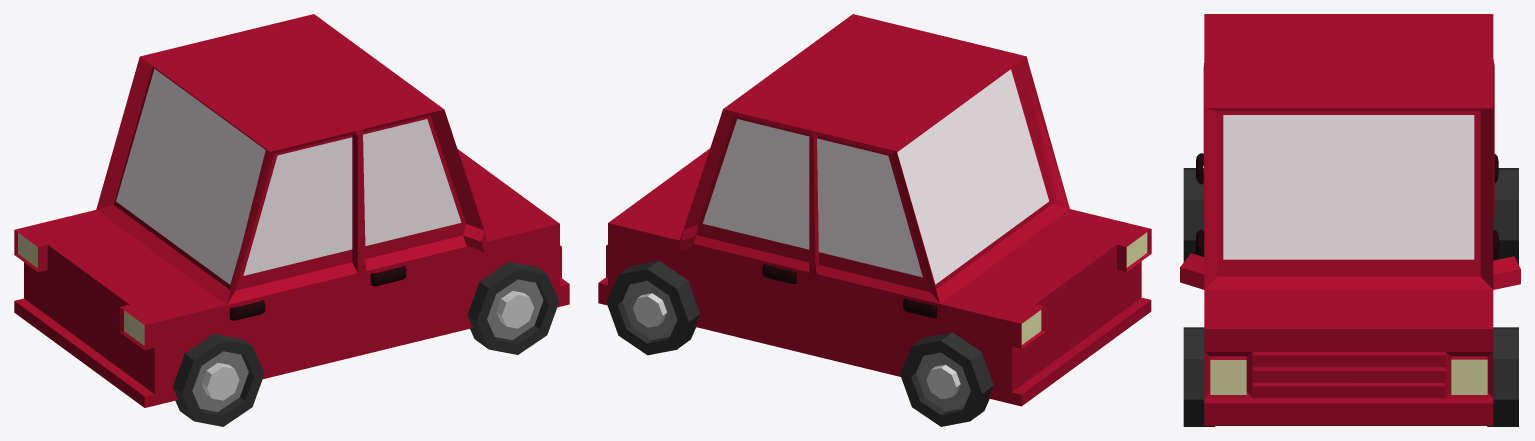
File: Araba_b.fbx
3 renders of one model, left to right at view 1: azimuth 30°, elevation 25°; view 2: azimuth 150°, elevation 25°; view 3: azimuth 270°, elevation 25°, orthographic. The views are drawn at different scales.
Parts seen in each view (by area): view 1: car2, wheel13, wheel14; view 2: car2, wheel12, wheel15; view 3: car2, wheel12, wheel13, wheel15, wheel14.
Part boxes in pixels (x1=…): car2: x1=14, y1=14, x2=569, y2=407; wheel13: x1=467, y1=262, x2=559, y2=354; wheel14: x1=173, y1=333, x2=264, y2=426; car2: x1=598, y1=14, x2=1151, y2=406; wheel12: x1=606, y1=260, x2=700, y2=355; wheel15: x1=900, y1=332, x2=993, y2=426; car2: x1=1180, y1=14, x2=1520, y2=425; wheel12: x1=1487, y1=327, x2=1518, y2=426; wheel13: x1=1183, y1=327, x2=1215, y2=426; wheel15: x1=1493, y1=168, x2=1518, y2=264; wheel14: x1=1183, y1=168, x2=1204, y2=261.
Bounding box in the file's own units: 360 × 206 × 226.
